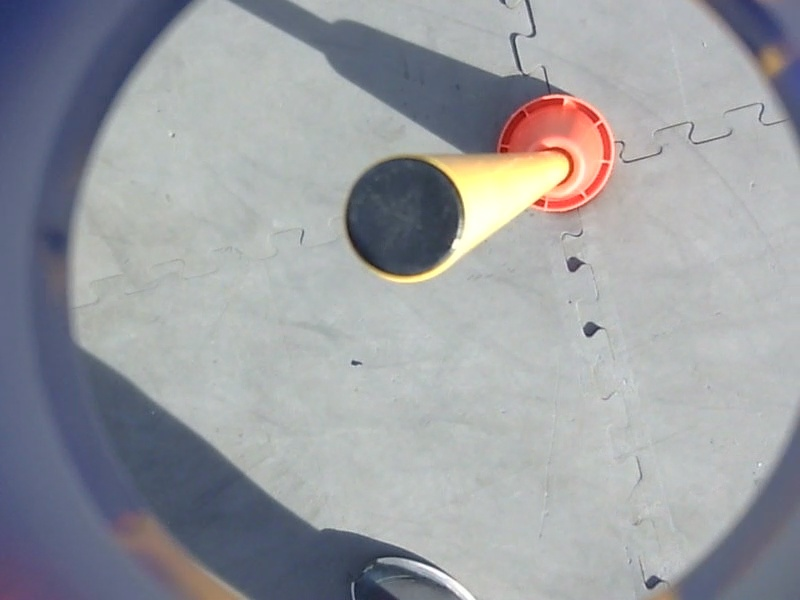tip: (337, 148, 477, 291)
